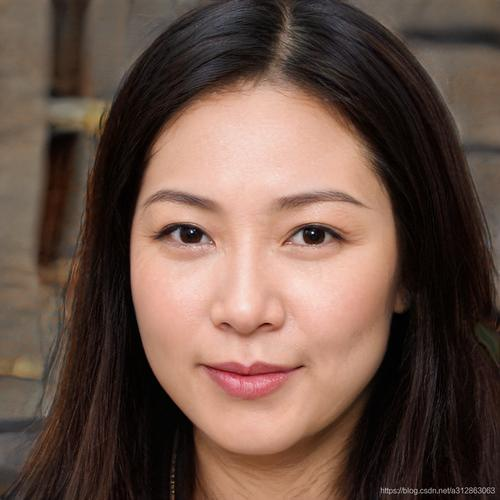no_mask: (131, 73, 407, 449)
